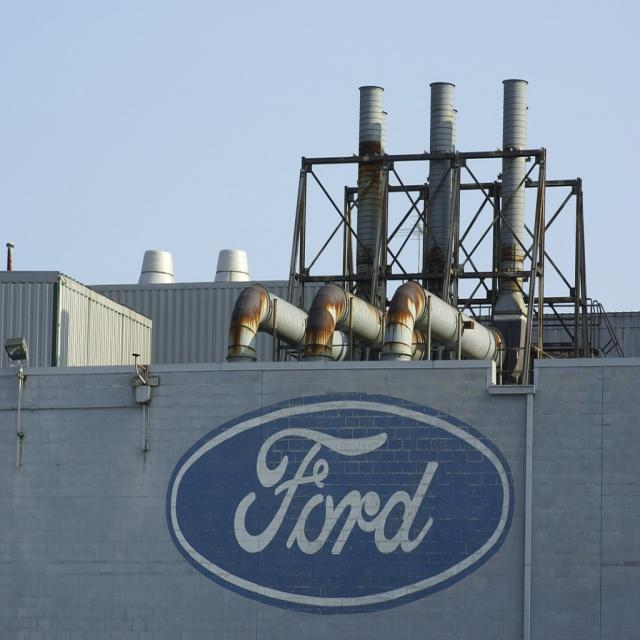ford: (163, 389, 521, 620)
